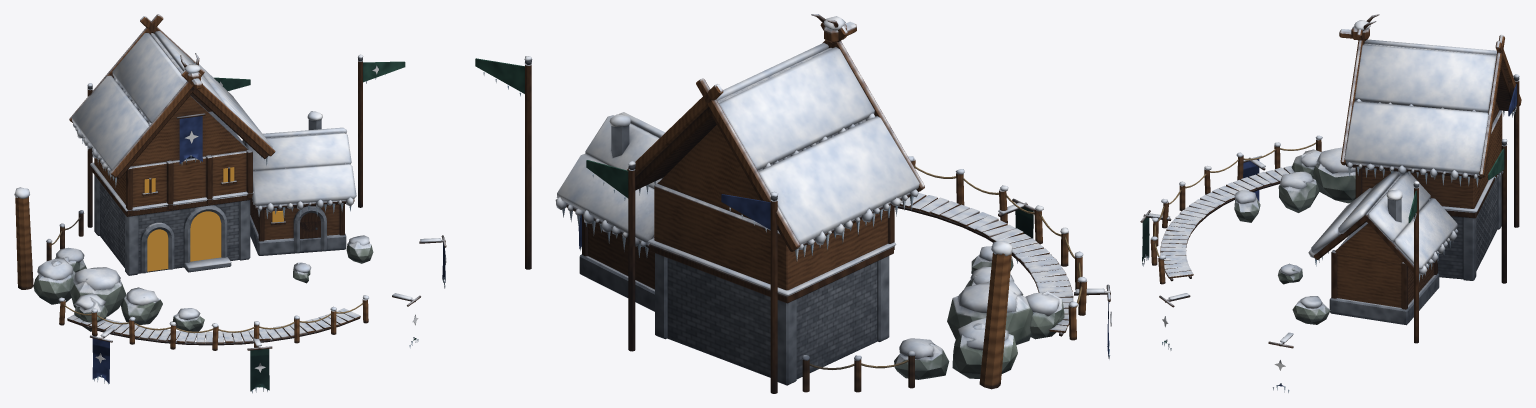
The model's file is FrostKeep_Buildings.fbx.
3 renders of one model, left to right at view 1: azimuth 30°, elevation 25°; view 2: azimuth 150°, elevation 25°; view 3: azimuth 270°, elevation 25°, orthographic. The views are drawn at different scales.
Parts seen in each view (by area): view 1: S03_HallRoof, S05_SideHouse, S01_HallStone, S02_HallTimber, S06_Boardwalk, S07_Railing, S10_Boulder_0, S10_TallPost, S10_Boulder_1, S09_FlagPole_0, S10_Boulder_2, S04_HallBanner (+8 smaller); view 2: S03_HallRoof, S01_HallStone, S02_HallTimber, S05_SideHouse, S06_Boardwalk, S10_TallPost, S10_Boulder_0, S09_FlagPole_1, S07_Railing, S09_FlagPole_0, S09_FlagPole_2, S10_Boulder_1 (+4 smaller); view 3: S03_HallRoof, S05_SideHouse, S06_Boardwalk, S02_HallTimber, S01_HallStone, S07_Railing, S10_Boulder_0, S10_Boulder_2, S09_FlagPole_2, S09_FlagPole_1, S09_FlagPole_0, S10_Boulder_6 (+5 smaller).
Part boxes in pixels (x1,y1,x2,y2): S03_HallRoof: [69, 14, 275, 187]; S05_SideHouse: [242, 111, 356, 255]; S01_HallStone: [94, 175, 250, 275]; S02_HallTimber: [90, 111, 253, 216]; S06_Boardwalk: [67, 308, 360, 345]; S07_Railing: [58, 295, 368, 350]; S10_Boulder_0: [70, 267, 126, 316]; S10_TallPost: [14, 187, 33, 289]; S10_Boulder_1: [33, 258, 75, 304]; S09_FlagPole_0: [358, 54, 405, 207]; S10_Boulder_2: [120, 287, 162, 324]; S04_HallBanner: [176, 113, 205, 165]; S03_HallRoof: [627, 14, 924, 261]; S01_HallStone: [655, 253, 889, 385]; S02_HallTimber: [647, 183, 896, 303]; S05_SideHouse: [555, 112, 665, 311]; S06_Boardwalk: [894, 193, 1073, 336]; S10_TallPost: [979, 241, 1012, 389]; S10_Boulder_0: [947, 281, 1033, 344]; S09_FlagPole_1: [721, 191, 777, 393]; S07_Railing: [908, 156, 1086, 340]; S09_FlagPole_0: [475, 56, 532, 269]; S09_FlagPole_2: [586, 160, 635, 351]; S10_Boulder_1: [952, 318, 1017, 378]; S03_HallRoof: [1339, 14, 1521, 186]; S05_SideHouse: [1308, 171, 1458, 325]; S06_Boardwalk: [1160, 165, 1294, 281]; S02_HallTimber: [1355, 110, 1502, 218]; S01_HallStone: [1438, 171, 1501, 280]; S07_Railing: [1150, 135, 1322, 284]; S10_Boulder_0: [1313, 147, 1355, 203]; S10_Boulder_2: [1278, 171, 1319, 212]; S09_FlagPole_2: [1488, 139, 1507, 283]; S09_FlagPole_1: [1508, 74, 1519, 227]; S09_FlagPole_0: [1408, 180, 1419, 343]; S10_Boulder_6: [1292, 296, 1330, 324].
Bounding box in the file's own units: 19.51 × 12.02 × 15.6.
Materials: 1 (1 with a texture image).
